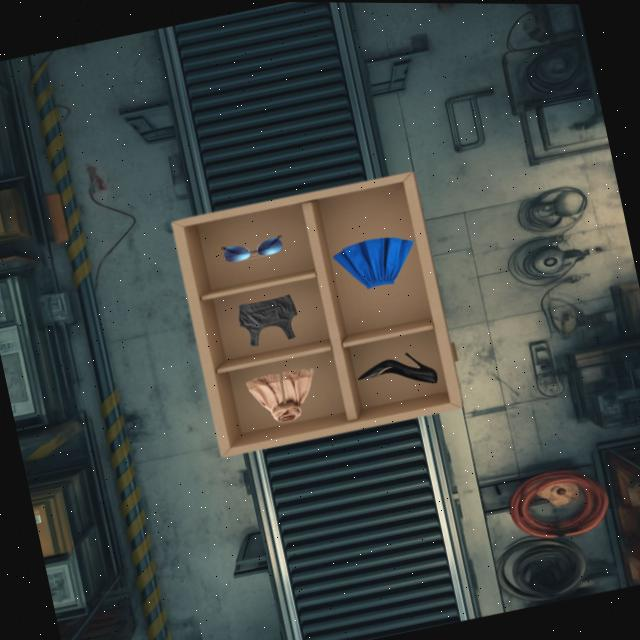heel: (359, 353, 437, 383)
scarf: (246, 368, 314, 422)
skirt: (333, 237, 413, 288)
sunglasses: (222, 235, 283, 262)
top: (238, 294, 297, 346)
